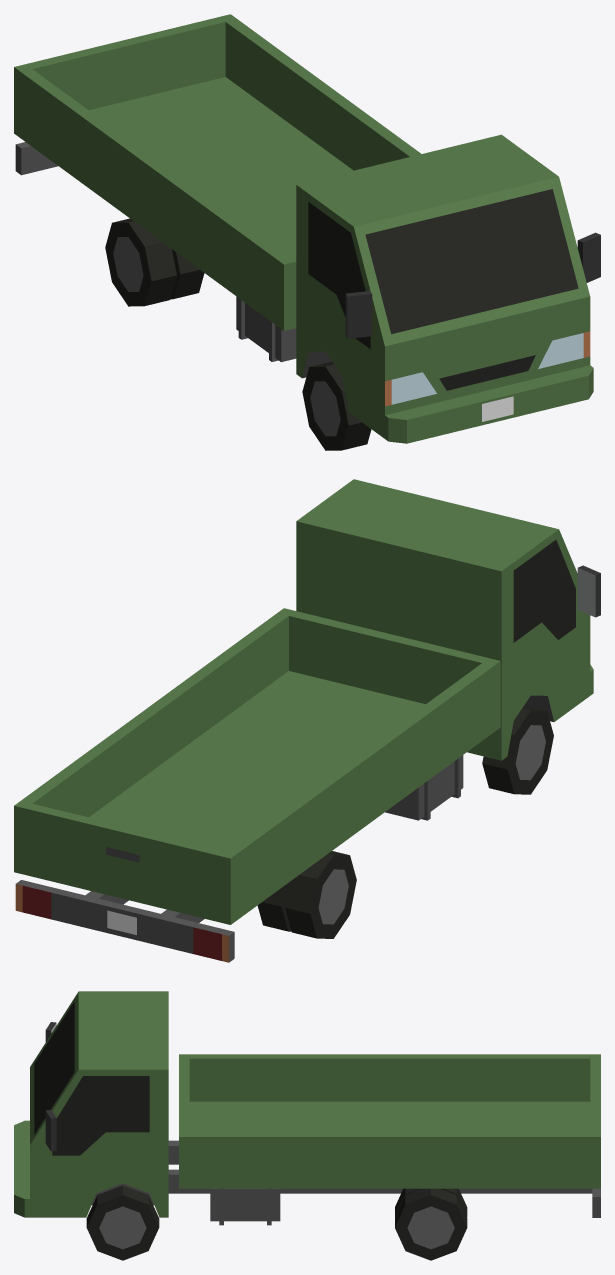
File: Veh_Truck_02_Flat_Green.obj
3 views of the same model, one above another, from view 1: azimuth 30°, elevation 25°; view 2: azimuth 150°, elevation 25°; view 3: azimuth 270°, elevation 25° (orthographic). The views are drawn at different scales.
Bounding box in the file's own units: 1.27 × 1.17 × 3.26.
